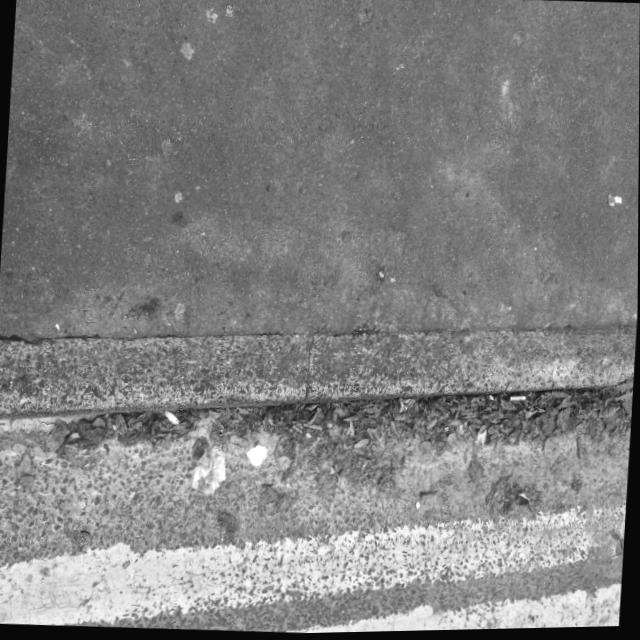Plastic: (190, 438, 232, 499)
